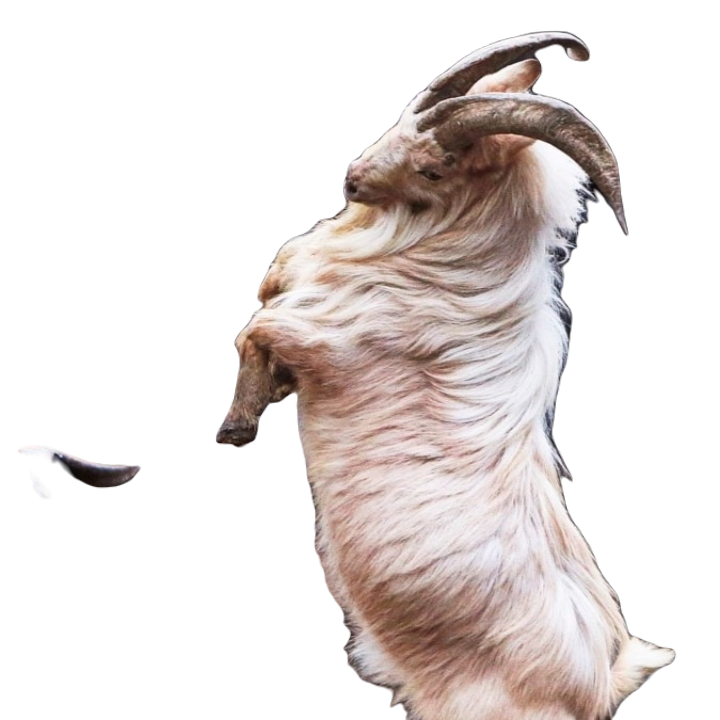Goat: (208, 28, 677, 719)
